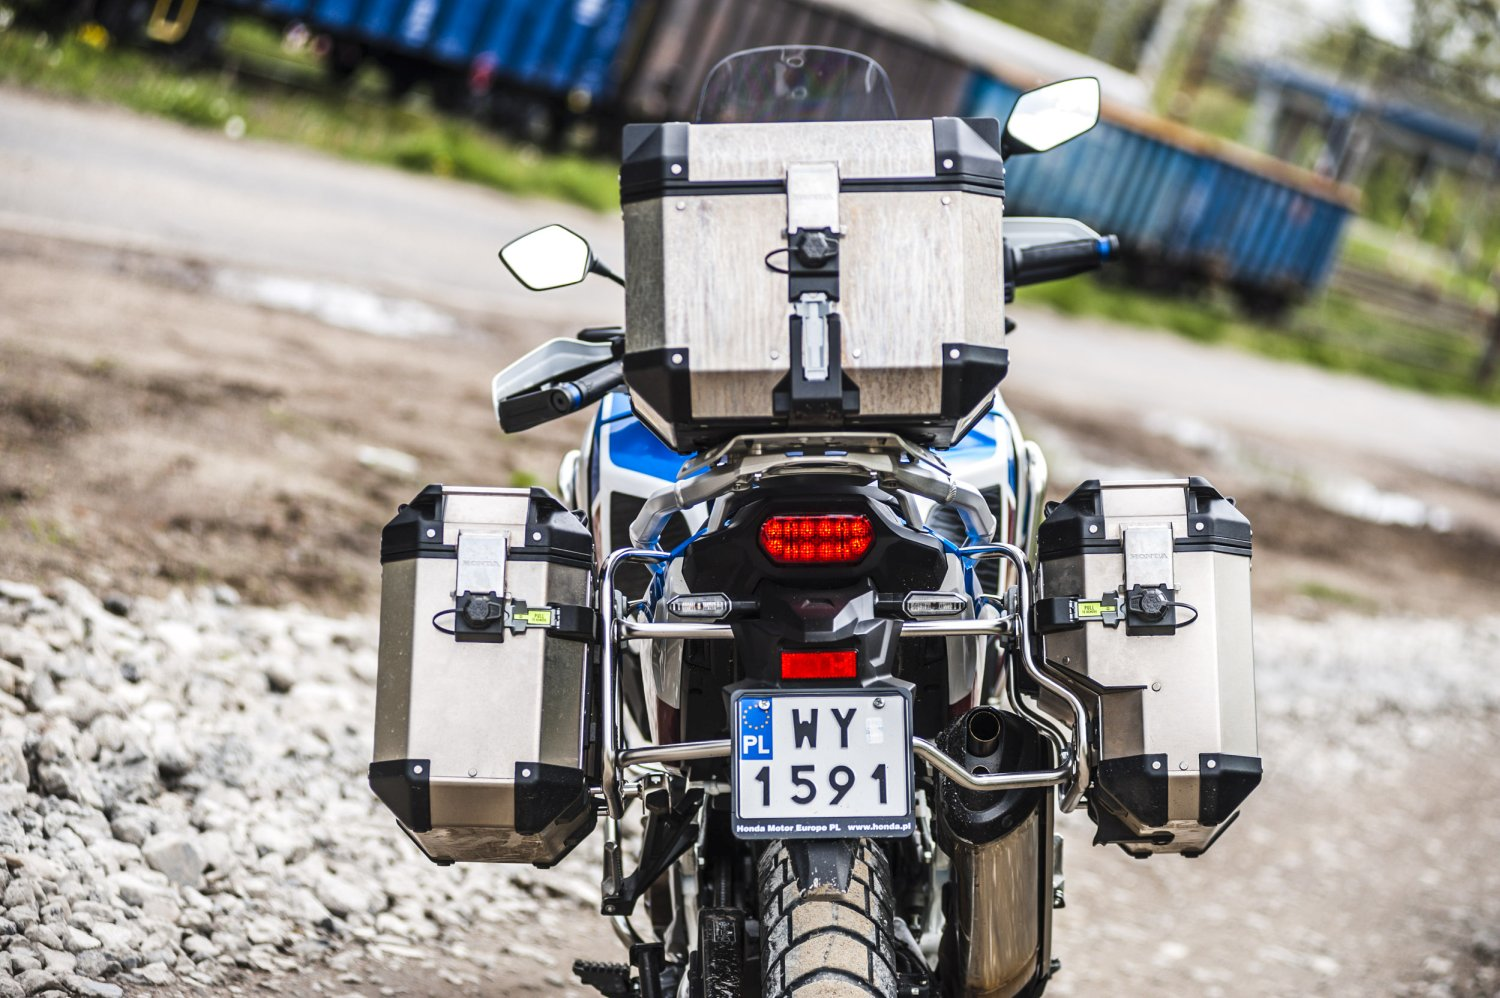tablica: (733, 689, 910, 828)
